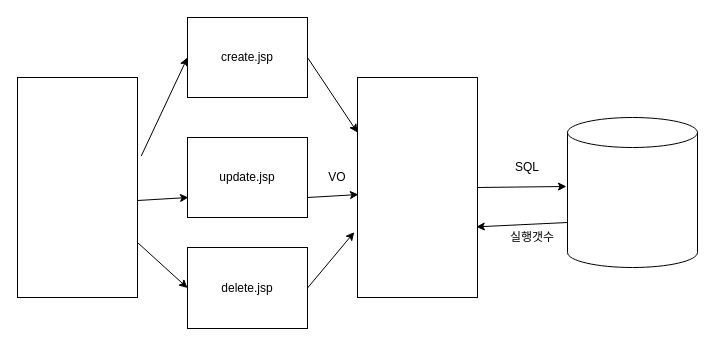
Image size: 715x346. Some labels were removed from this diagram. Each missing label, with the centre of its shape:
"DAO" belongs at (x=417, y=187).
"index.html" belongs at (x=77, y=187).
